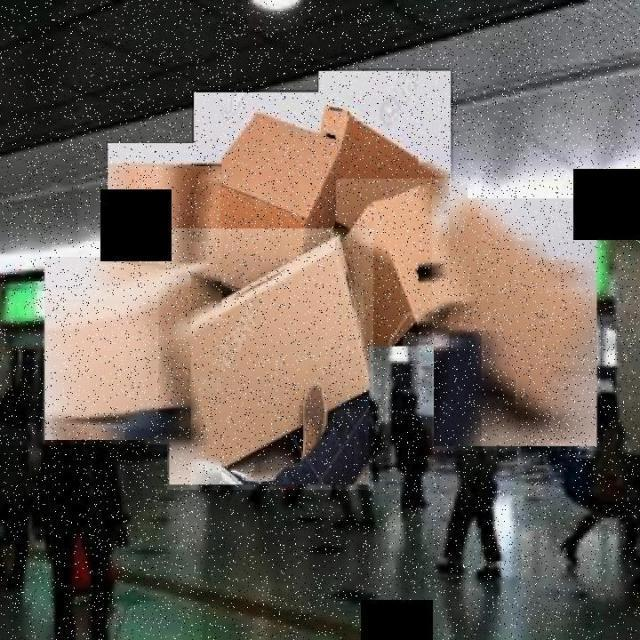box: (167, 228, 373, 490), (432, 195, 600, 450), (42, 255, 210, 444), (192, 90, 342, 298), (317, 68, 453, 245), (336, 178, 472, 350), (107, 142, 221, 266)
